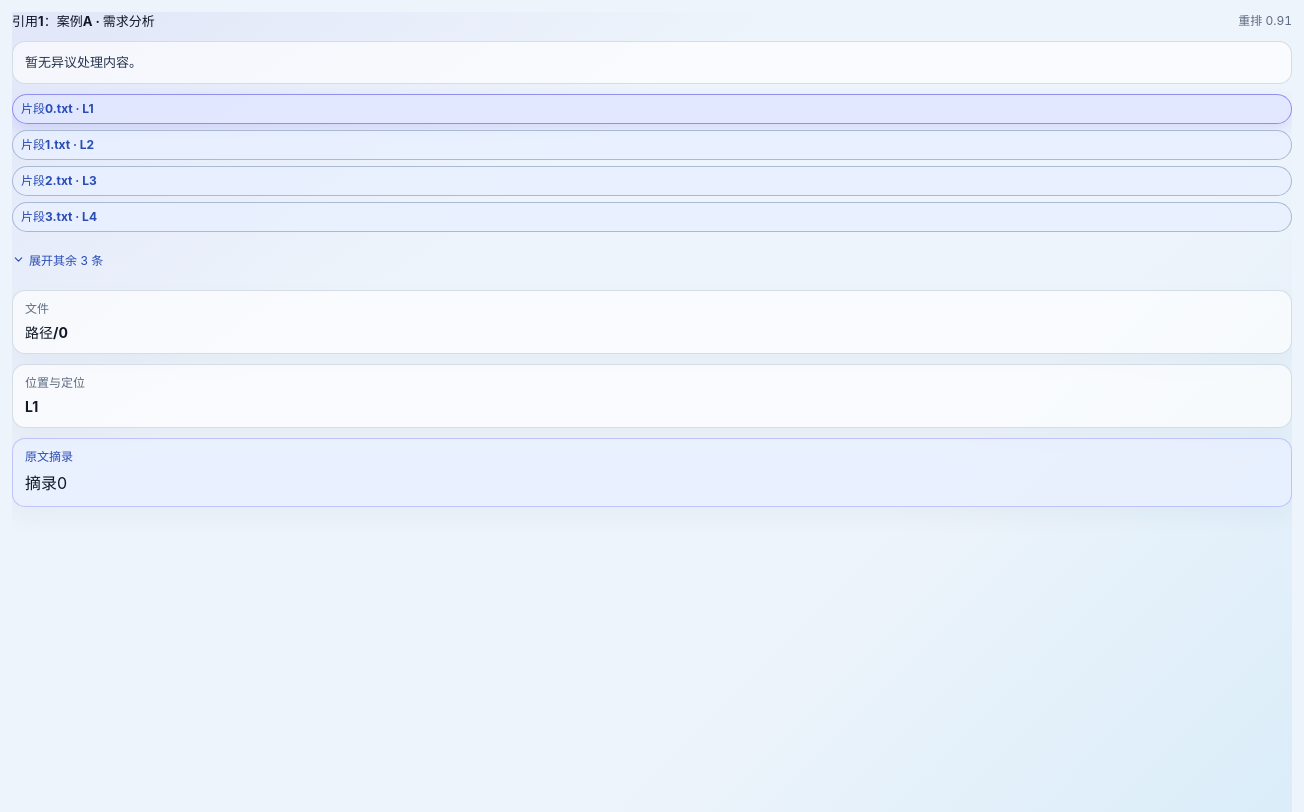
Test: 引用较多时默认只显示前 4 条，可展开与收起
expect the button "片段0.txt · L1" is shown: met, box [12,94,1292,124]
expect the button "片段3.txt · L4" is shown: met, box [12,202,1292,232]
Click the button "展开其余 3 条" at (55, 260), box [12,238,1292,280]
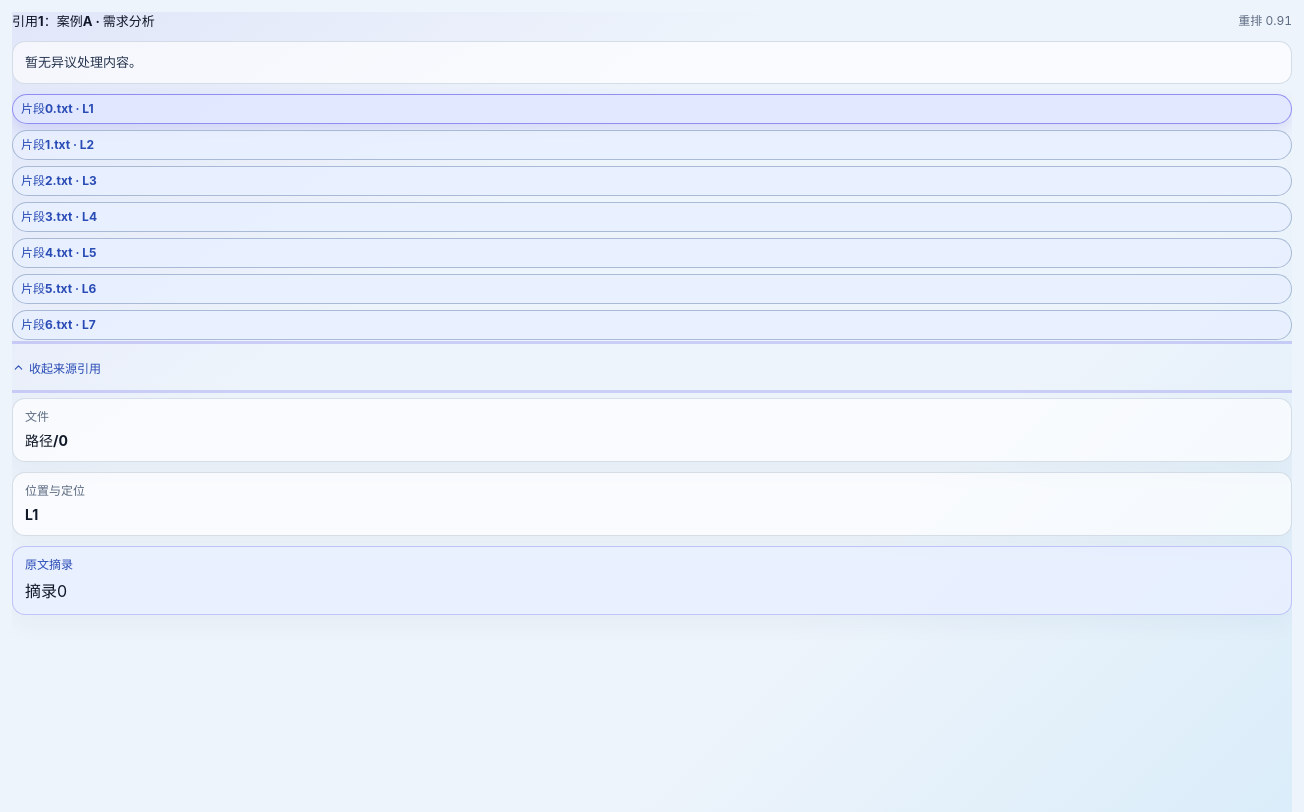
expect the button "片段6.txt · L7" is shown: met, box [12,310,1292,340]
Click the button "收起来源引用" at (65, 368), box [12,346,1292,388]
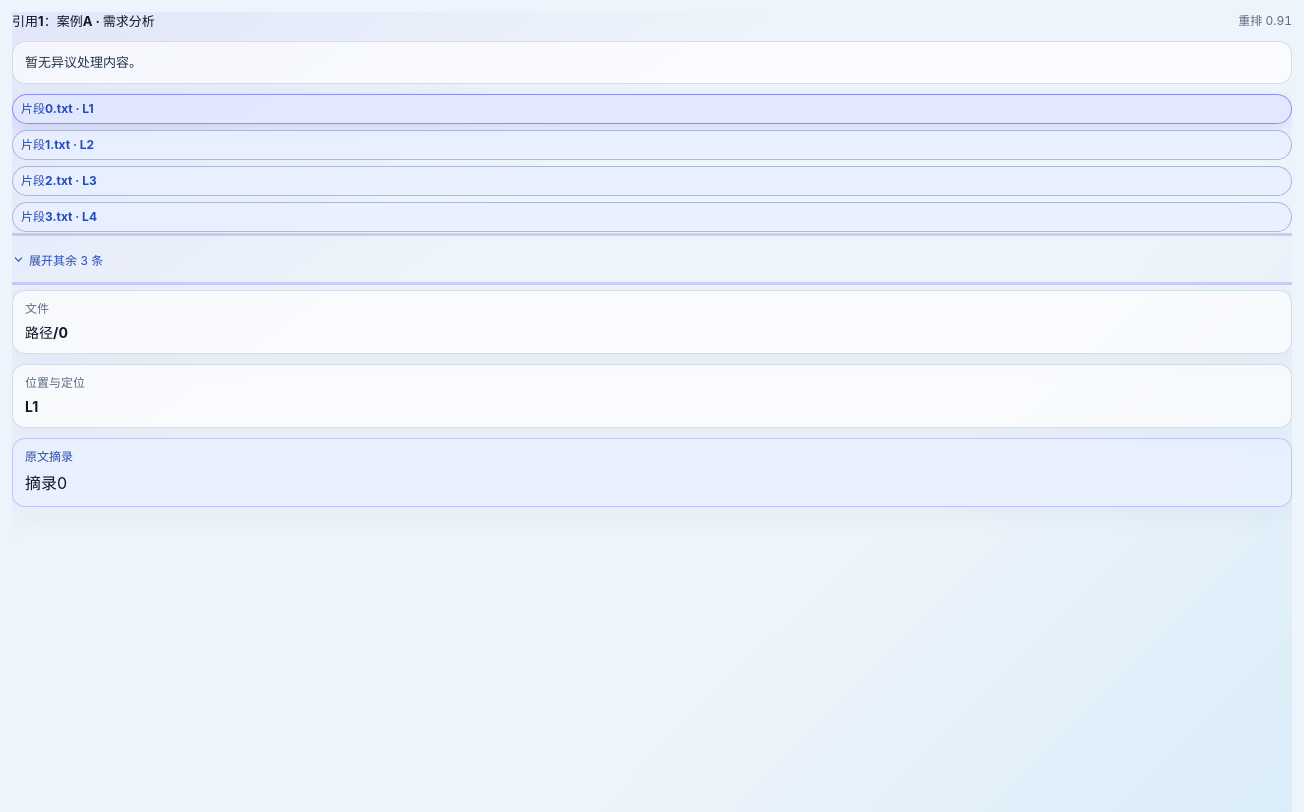
expect the button "片段4.txt" is gone: met
